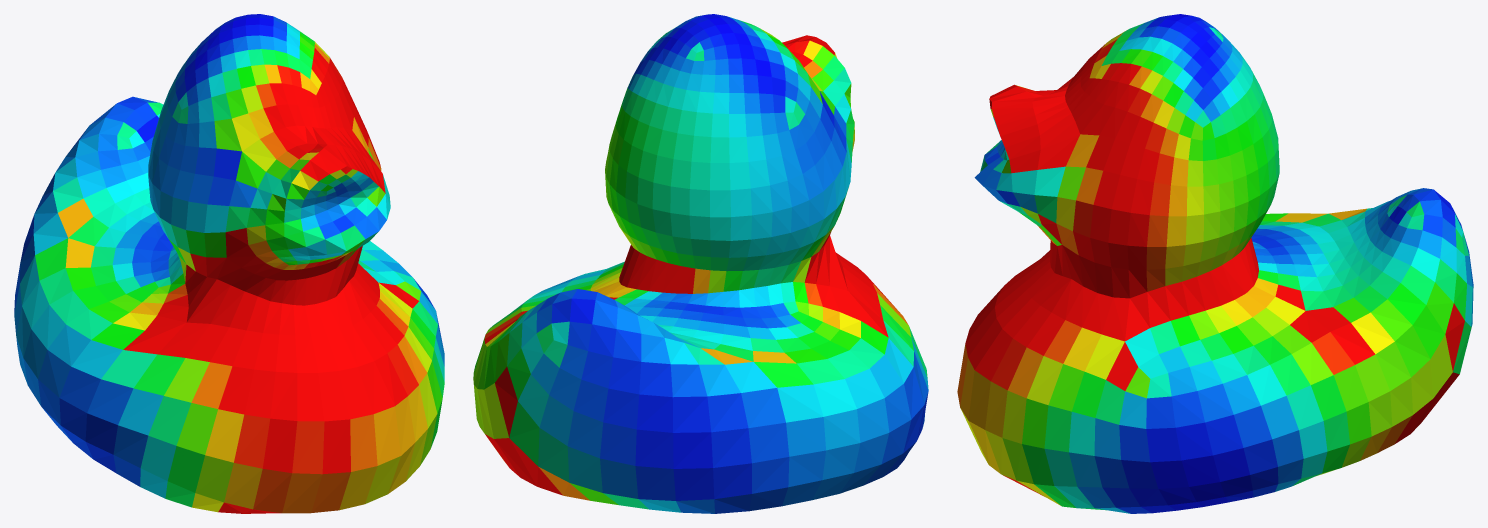
The model's file is duck_quad5_no_opt_quality.obj.
3 renders of one model, left to right at view 1: azimuth 30°, elevation 25°; view 2: azimuth 150°, elevation 25°; view 3: azimuth 270°, elevation 25°, orthographic. The views are drawn at different scales.
Bounding box in the file's own units: 70.24 × 78.81 × 82.62.
